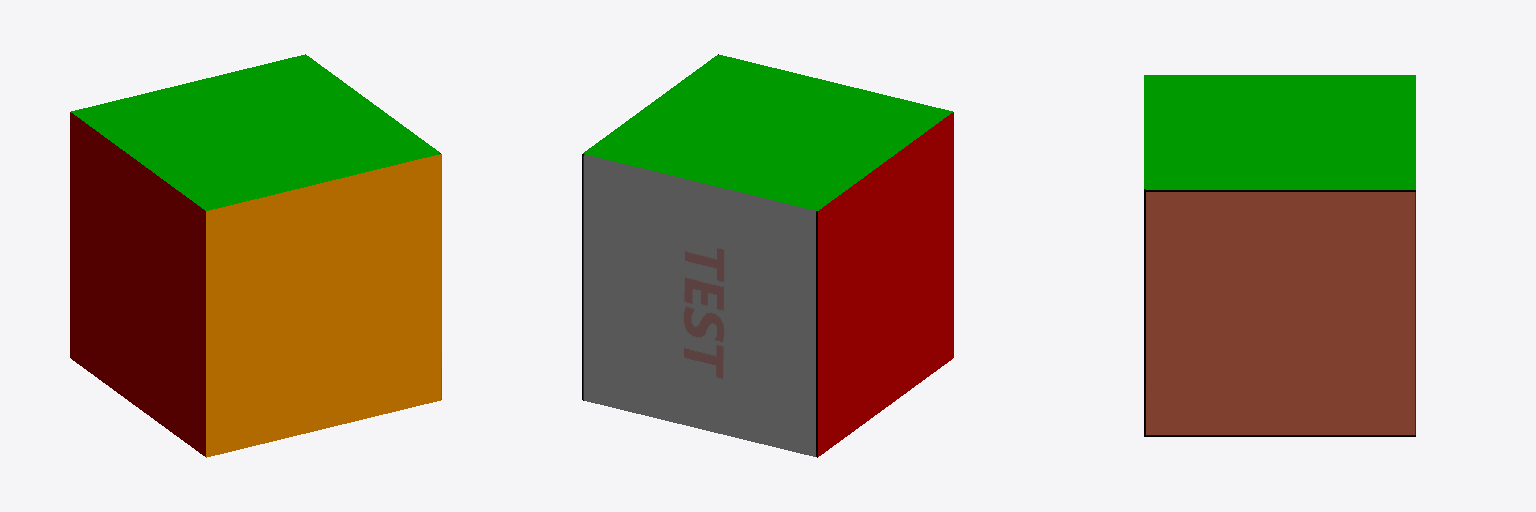
3 views of the same model, side by side, from view 1: azimuth 30°, elevation 25°; view 2: azimuth 150°, elevation 25°; view 3: azimuth 270°, elevation 25° (orthographic).
Visible parts, largest first — view 1: Cube; view 2: Cube; view 3: Cube.
Part boxes in pixels (left/top/right/bottom): Cube: left=70, top=54, right=441, bottom=457; Cube: left=582, top=54, right=953, bottom=457; Cube: left=1144, top=75, right=1415, bottom=436.
Bounding box in the file's own units: 2 × 2 × 2.
1 materials, 1 textured.